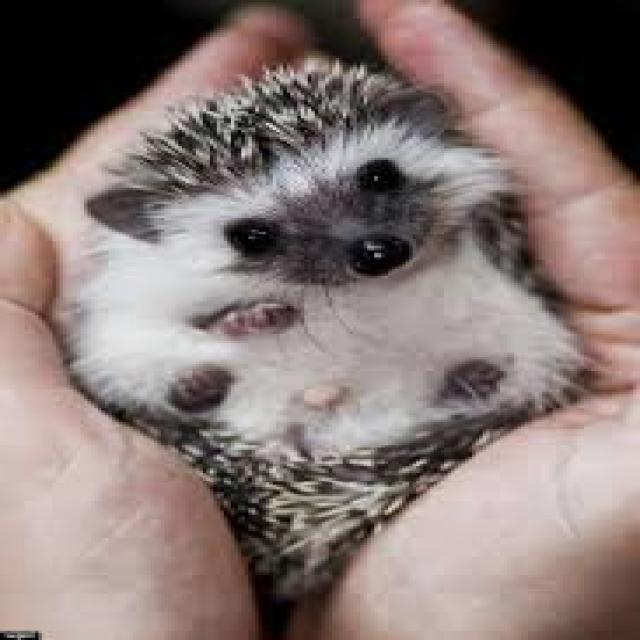hedgehog: (66, 56, 584, 598)
